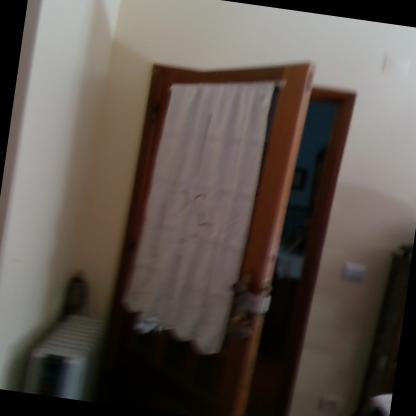semi: (105, 32, 373, 415)
